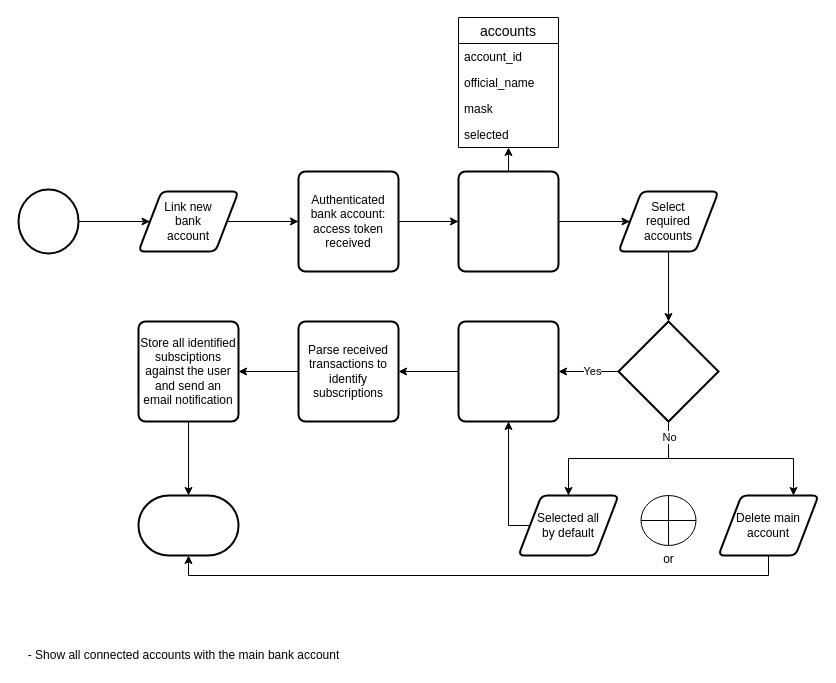
Image size: 836x683. Some labels were removed from this diagram. The shapes that lost their labels are listed below. From the top down, each one's box as (x1, y1, x2, y2) in pixels, then its label:
(17, 188, 79, 254): Start
(457, 170, 559, 272): Get all related accounts store against user
(457, 320, 559, 422): Get all transactions filtered by selected accounts and store
(617, 320, 719, 422): Accounts selected?
(137, 494, 239, 556): END
